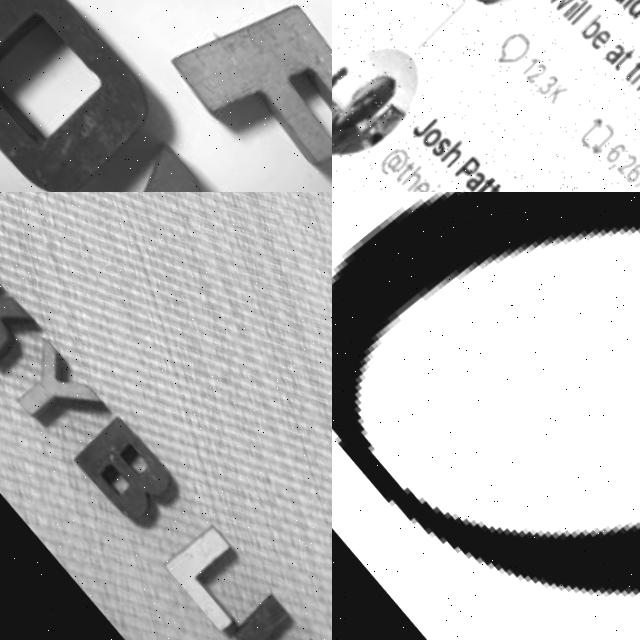1: (513, 47, 543, 73)
2: (608, 146, 639, 174), (518, 55, 549, 82)
3: (529, 66, 562, 95)
6: (595, 134, 627, 163), (616, 153, 640, 181)
7: (623, 161, 640, 190)
B: (59, 412, 175, 527)
F: (156, 0, 332, 192)
K: (0, 258, 37, 370)
L: (153, 525, 263, 632)
O: (332, 192, 640, 600), (0, 0, 167, 192)
U: (209, 590, 329, 640)
V: (29, 137, 298, 192)
Y: (0, 334, 104, 446)
